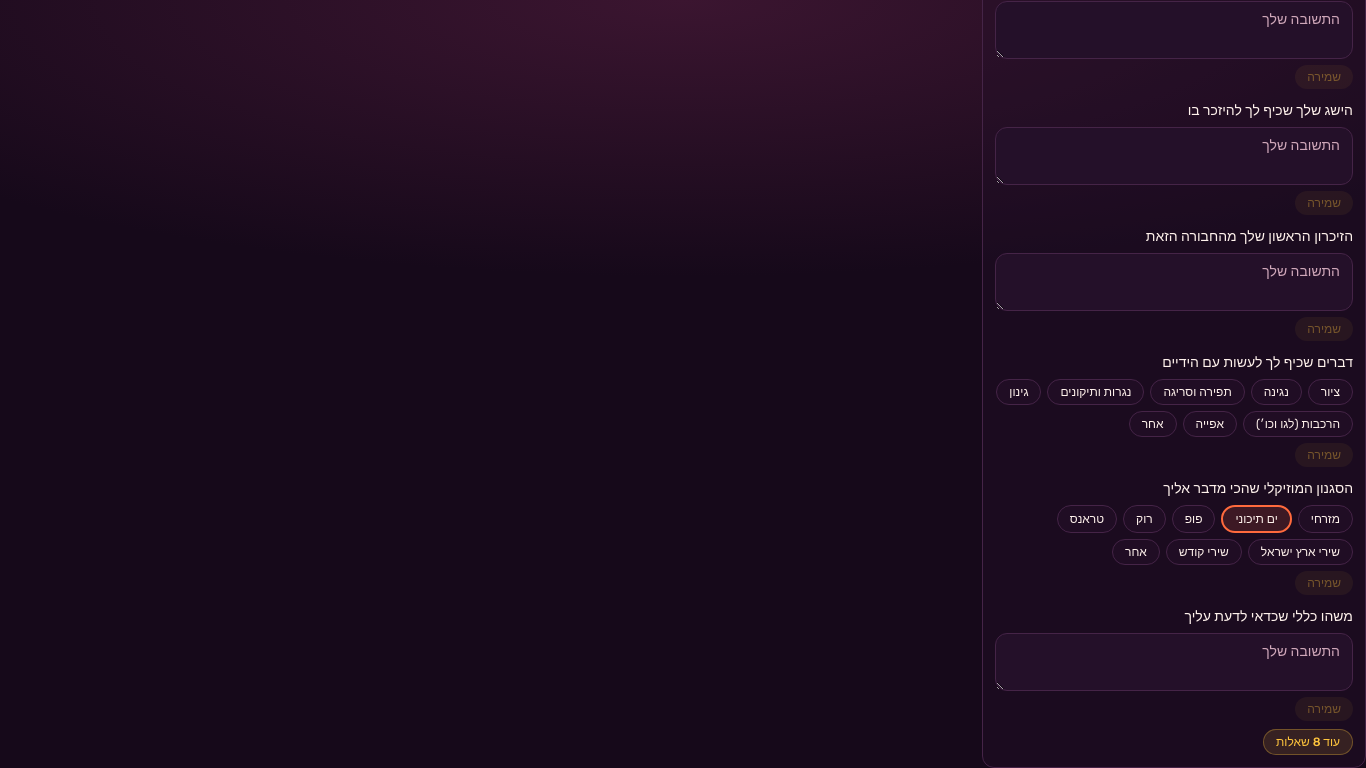
it: GuidedQuestions - an "אחר" option for choice questions › turns "אחר" off on a second tap, and brings the text back on a third
(page scrolled)
Click the button "אחר" below "הסגנון המוזיקלי שהכי מדבר אליך" at [1136, 552], box x1=1112 y1=539 x2=1160 y2=565
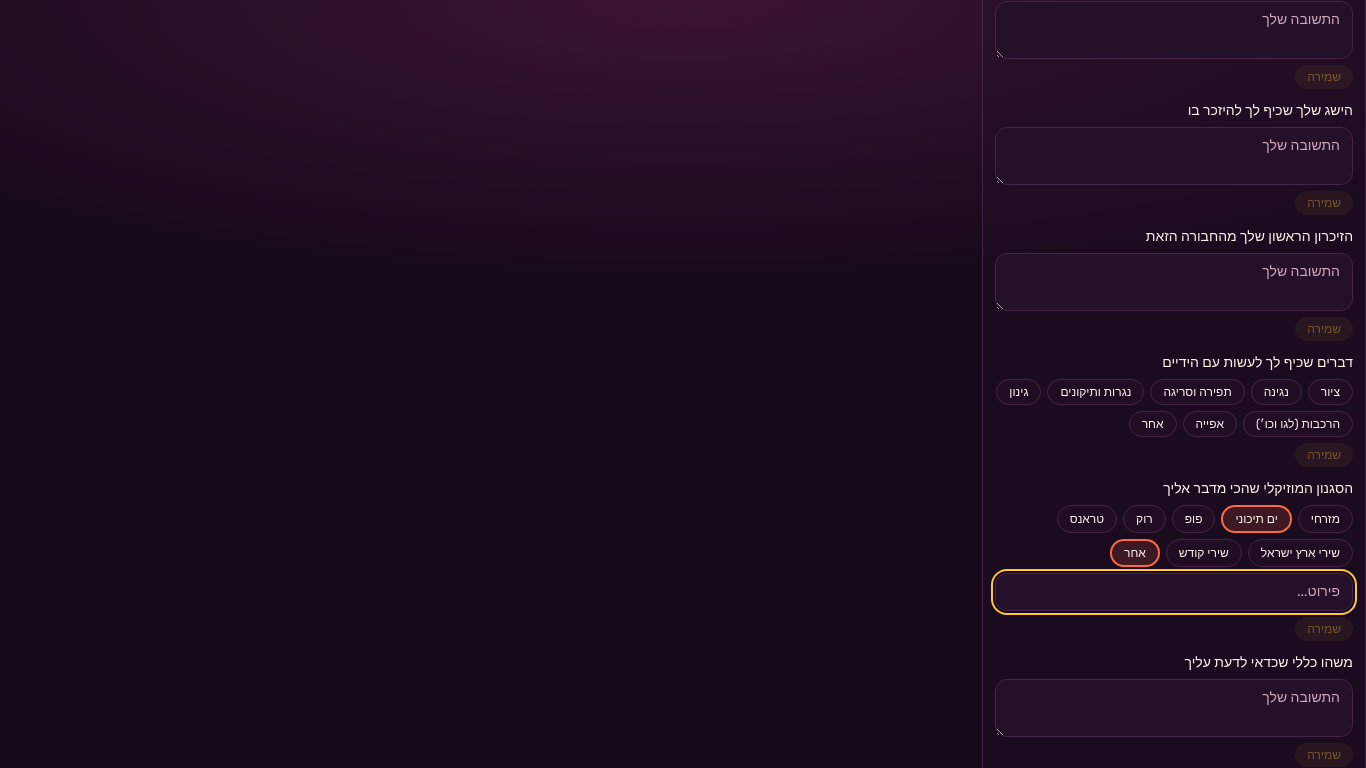
Type "תשובה משלי" into the field with placeholder "פירוט..." at [1174, 592], box x1=995 y1=573 x2=1353 y2=611
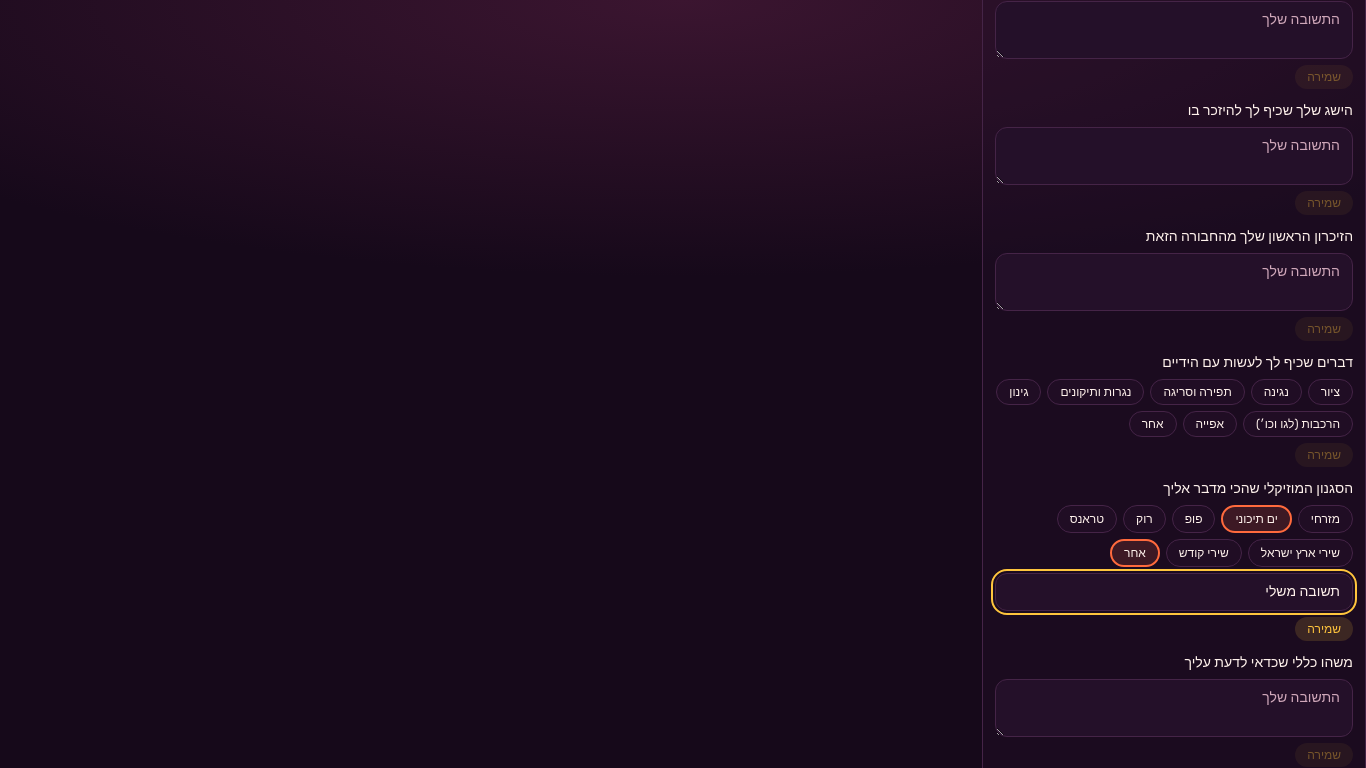
Click the button "אחר" below "הסגנון המוזיקלי שהכי מדבר אליך" at [1135, 553], box x1=1110 y1=539 x2=1160 y2=567
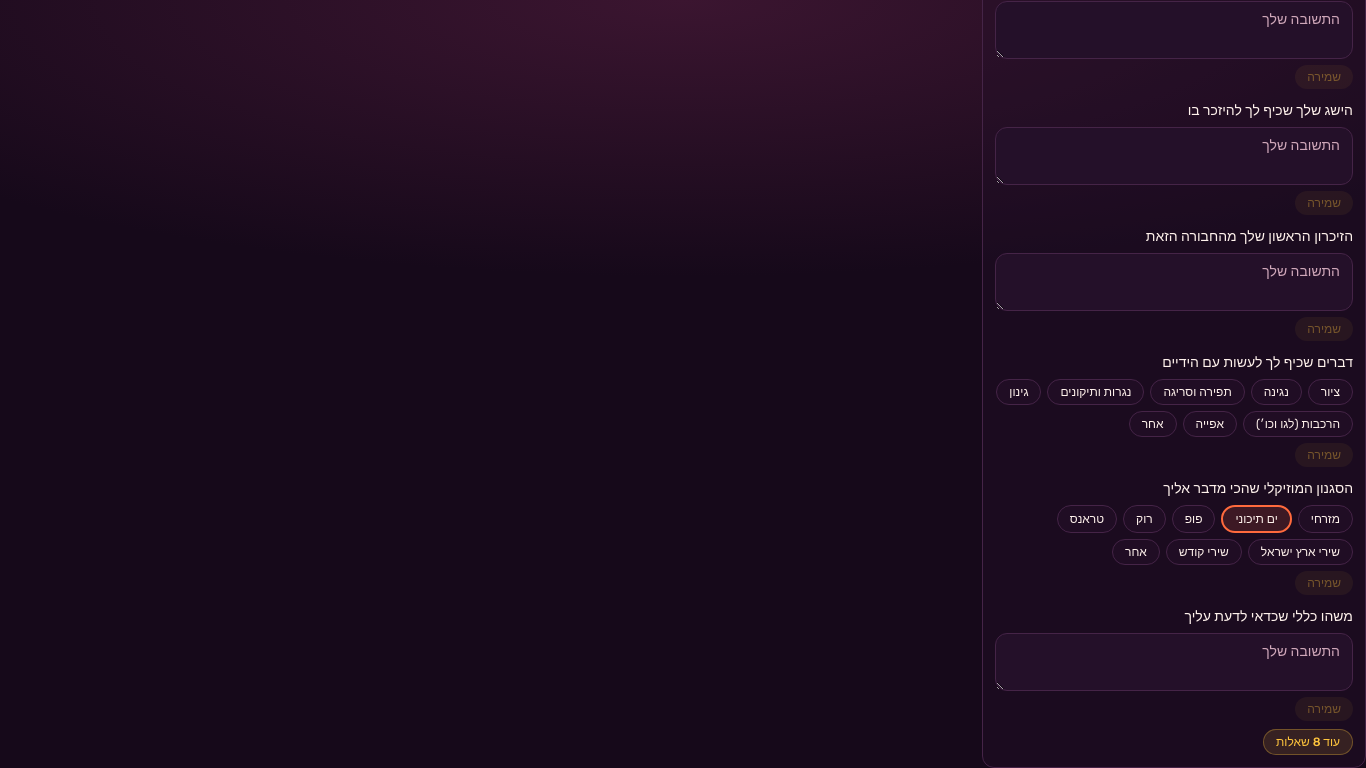
Expected: the field with placeholder "פירוט..." is gone
Click the button "אחר" below "הסגנון המוזיקלי שהכי מדבר אליך" at [1136, 552], box x1=1112 y1=539 x2=1160 y2=565
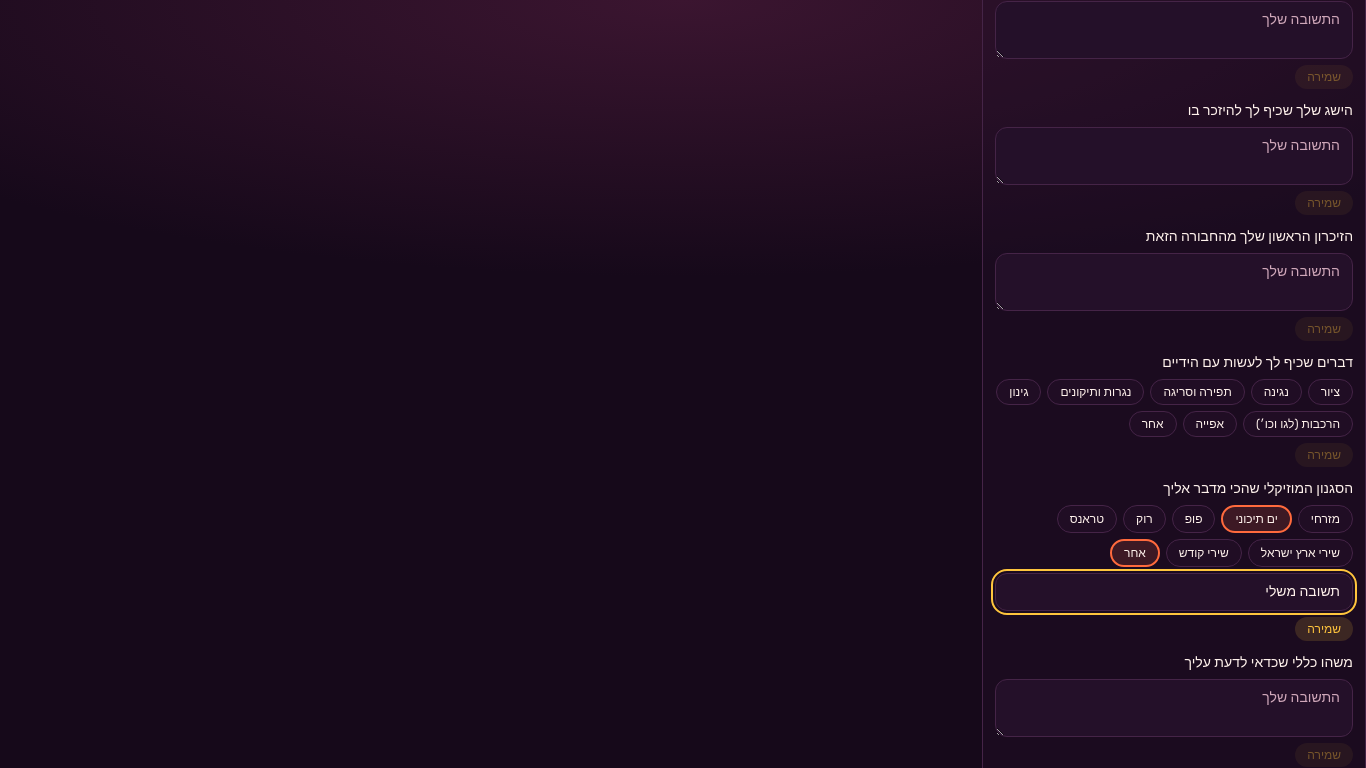
Expected: the field with placeholder "פירוט..." holds "תשובה משלי", x1=995 y1=573 x2=1353 y2=611
